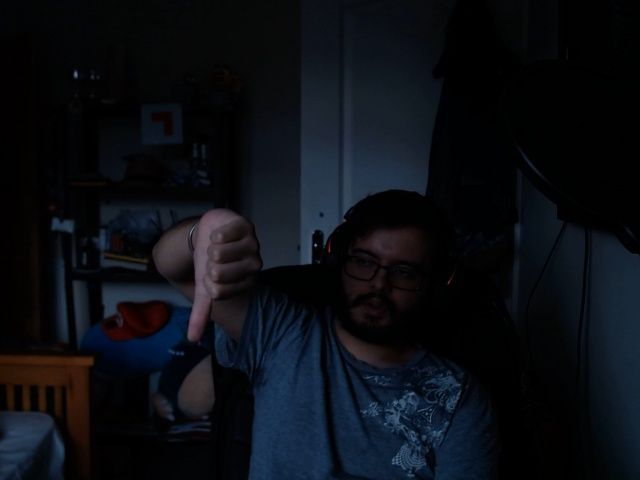Thumbs down: (184, 196, 271, 360)
